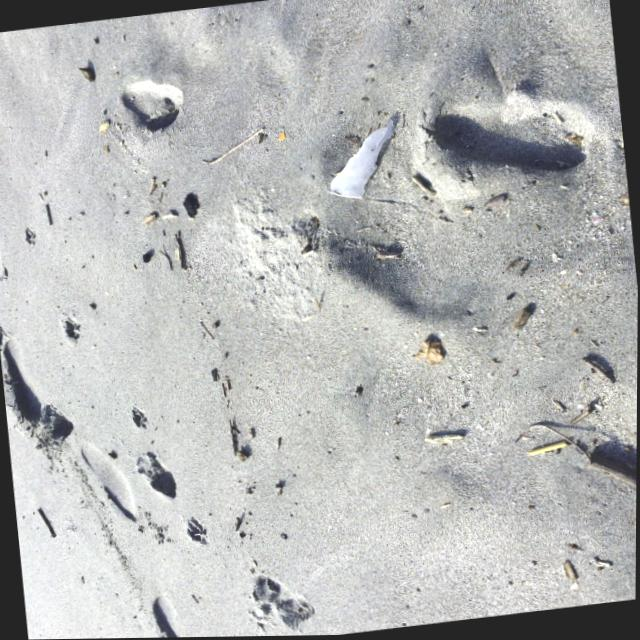Plastic: (310, 112, 415, 207)
